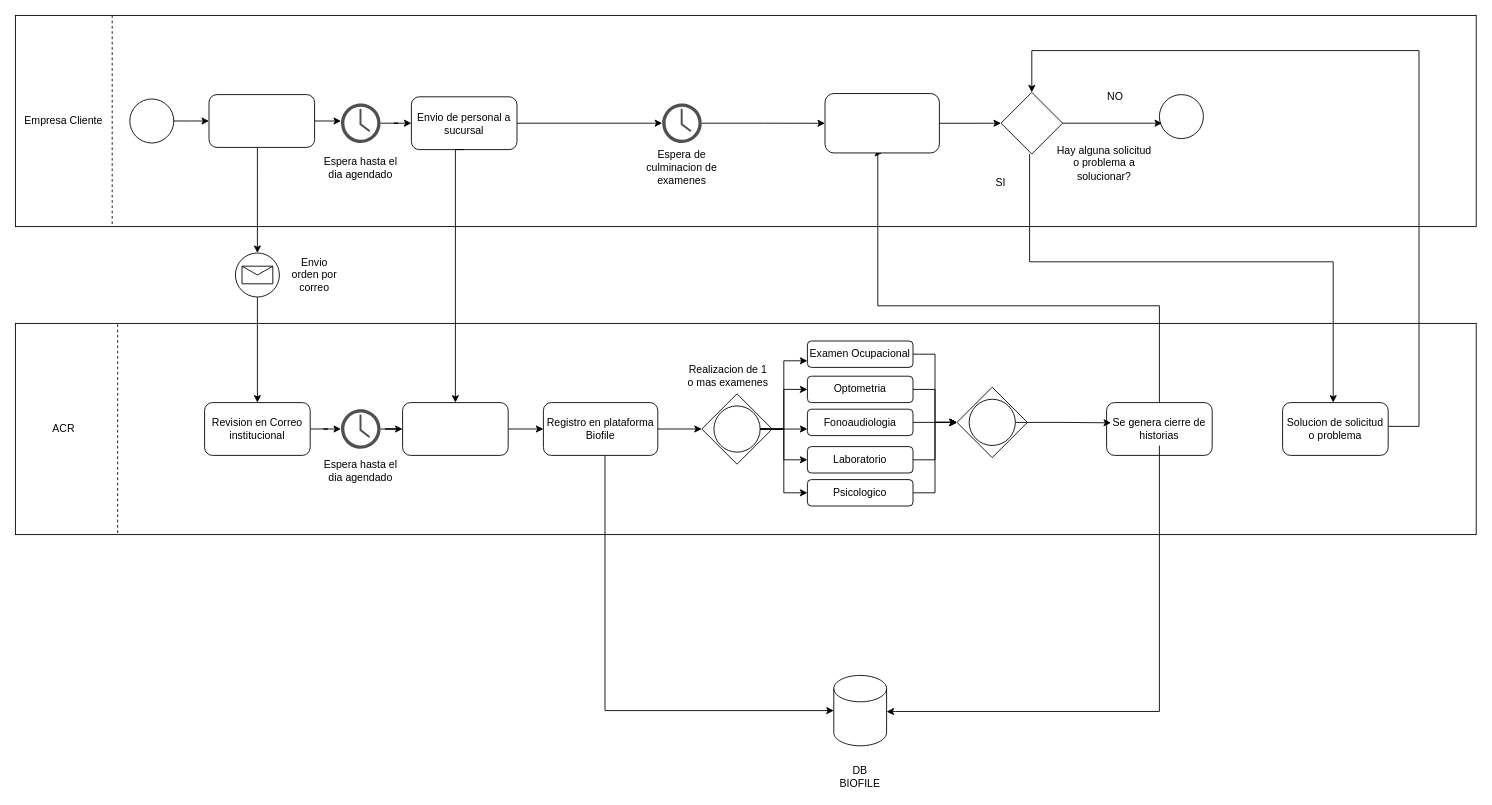
Image size: 1492x805. Some labels were removed from this diagram. Here are the shapes that lost their labels. From the top down, the centre of each, then its label:
At [261,120]: "Redaccion orden de servicios".
At [881,123]: "revision de certificados por medio de plataforma biofile".
At [455,428]: "Confirmacion de asistencia y de examenes a realizar".
